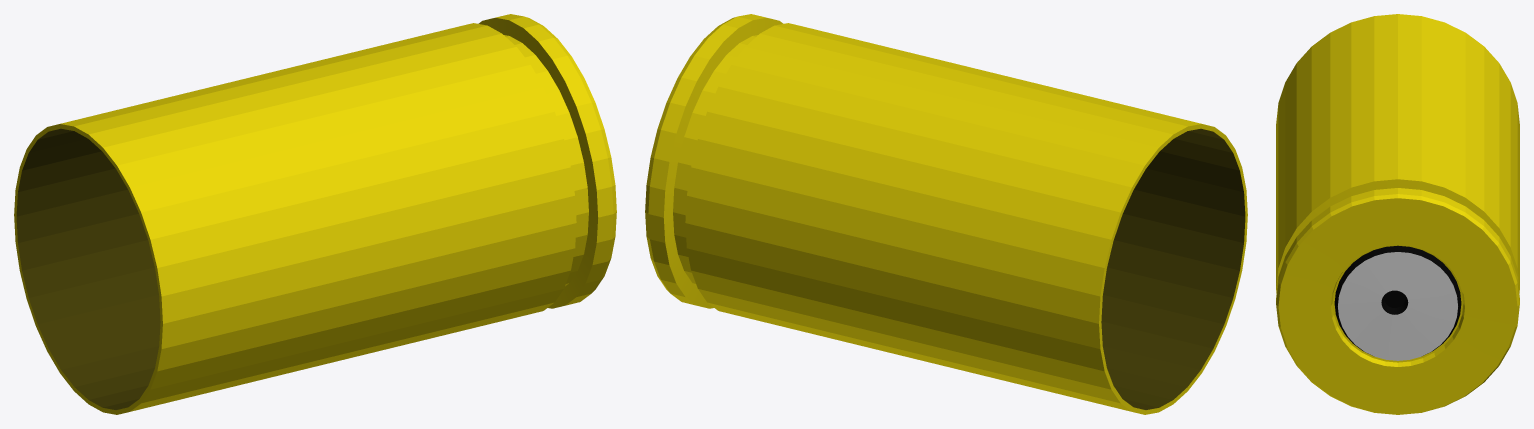
File: bullet_shell_oga.glb
The picture shows the model from 3 angles, left to right: view 1: azimuth 30°, elevation 25°; view 2: azimuth 150°, elevation 25°; view 3: azimuth 270°, elevation 25°; orthographic projection. The views are drawn at different scales.
Parts seen in each view (by area): view 1: BulletShell; view 2: BulletShell; view 3: BulletShell.
Part boxes in pixels (left/top/right/bottom): BulletShell: left=14, top=14, right=616, bottom=414; BulletShell: left=645, top=14, right=1247, bottom=414; BulletShell: left=1276, top=14, right=1519, bottom=414.
Size of the model in its own units: 1.8 by 1.02 by 1.02.
